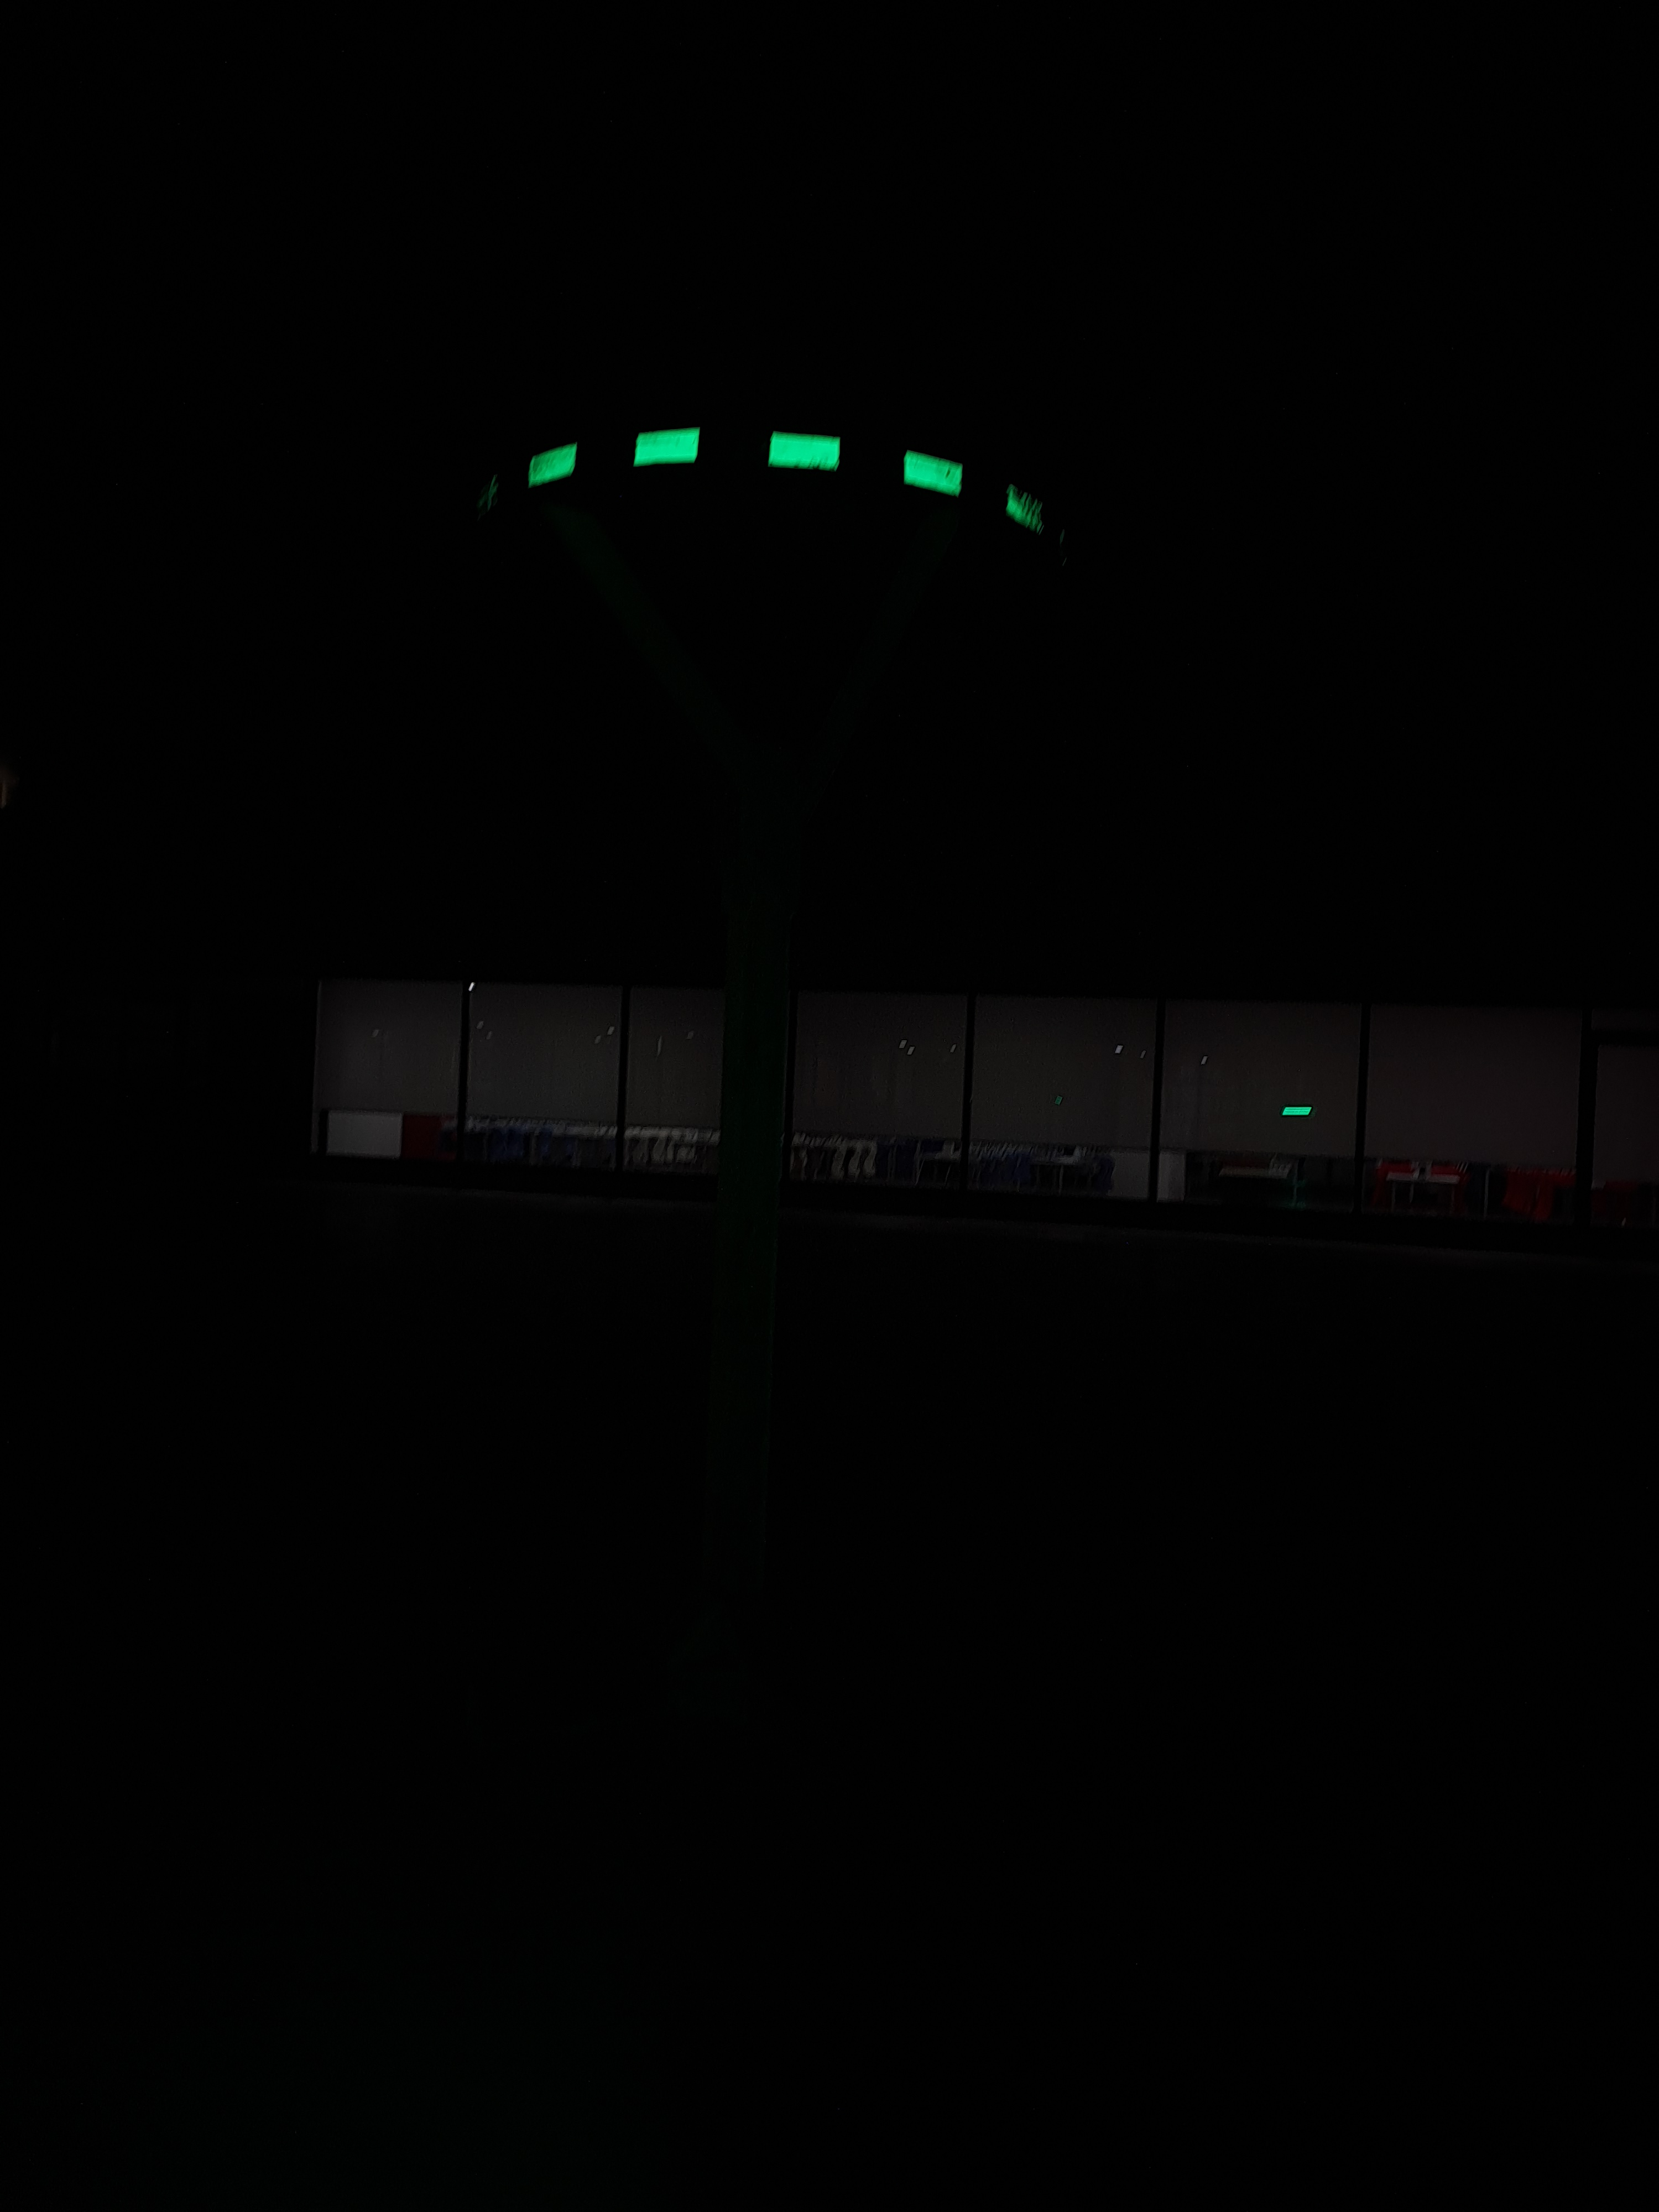hoop: (519, 428, 1049, 538)
